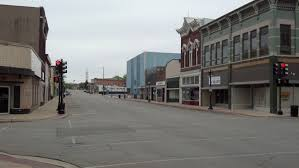strada: (0, 114, 299, 166)
